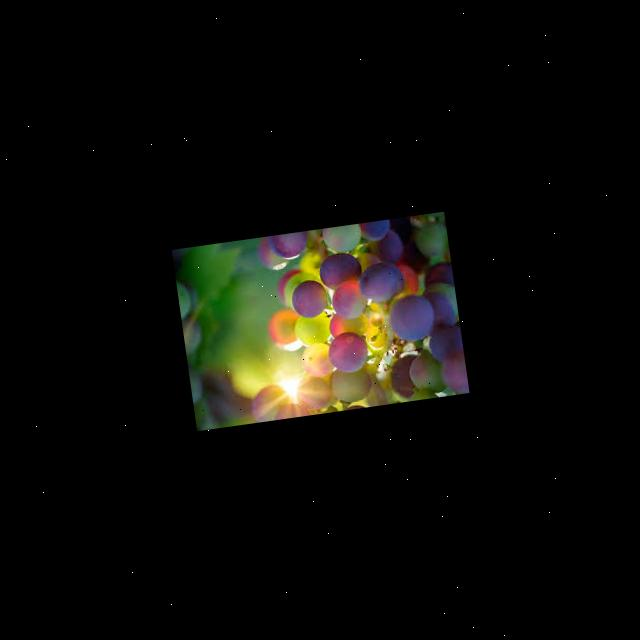grape: (253, 212, 468, 418)
